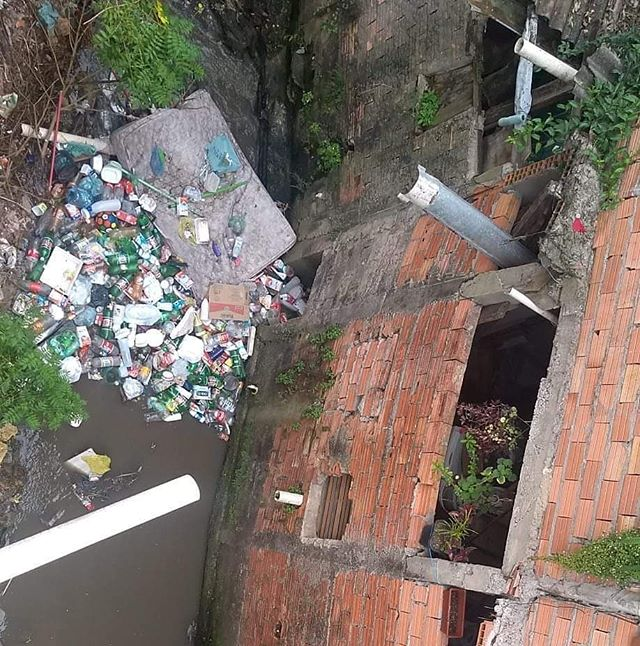building: (215, 20, 614, 646)
river: (20, 1, 272, 646)
trash: (16, 94, 334, 464)
